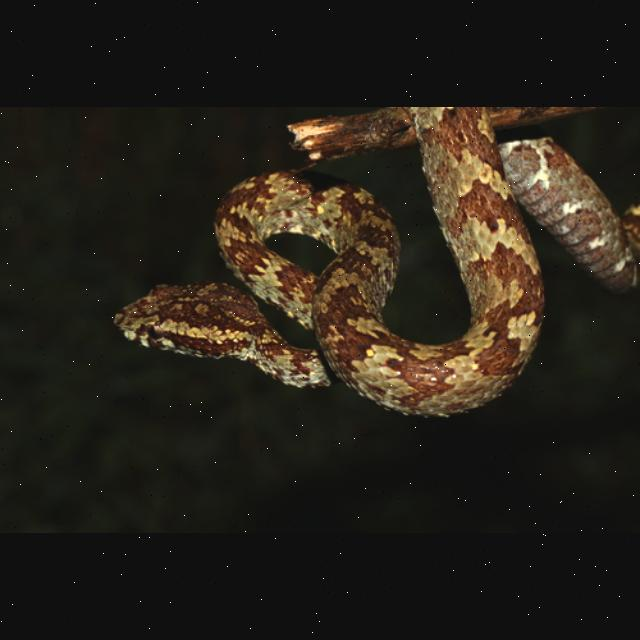snake: (106, 110, 640, 422)
